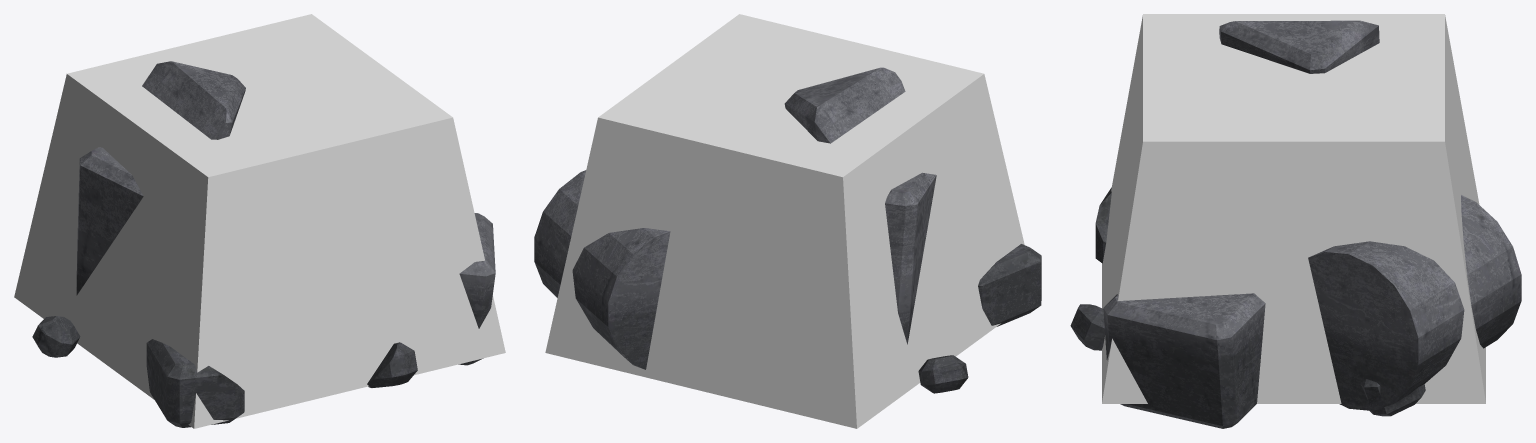
File: rubble_pile.webp.glb
3 views of the same model, side by side, from view 1: azimuth 30°, elevation 25°; view 2: azimuth 150°, elevation 25°; view 3: azimuth 270°, elevation 25° (orthographic). The views are drawn at different scales.
Parts seen in each view (by area): view 1: COL, rubble_pile_lod0; view 2: COL, rubble_pile_lod0; view 3: COL, rubble_pile_lod0.
Boxes of the visible parts, x1,y1,x2,y2 form: COL: (14,14,505,428); rubble_pile_lod0: (32,61,495,427); COL: (545,14,1024,428); rubble_pile_lod0: (534,67,1041,393); COL: (1102,14,1485,403); rubble_pile_lod0: (1070,20,1521,428).
Bounding box in the file's own units: 1.61 × 1.07 × 1.48.
Materials: 1 (1 with a texture image).
